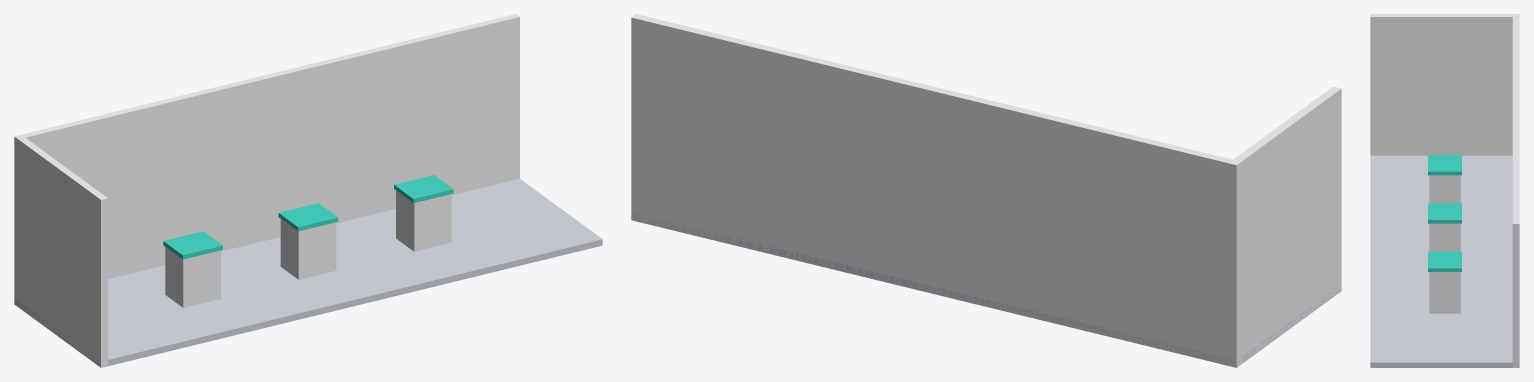
The picture shows the model from 3 angles, left to right: view 1: azimuth 30°, elevation 25°; view 2: azimuth 150°, elevation 25°; view 3: azimuth 270°, elevation 25°; orthographic projection. The views are drawn at different scales.
Parts seen in each view (by area): view 1: Exhibition Booth Concept; view 2: Exhibition Booth Concept; view 3: Exhibition Booth Concept.
Part boxes in pixels (x1,y1,x2,y2): Exhibition Booth Concept: [14, 14, 602, 367]; Exhibition Booth Concept: [631, 14, 1341, 367]; Exhibition Booth Concept: [1370, 14, 1519, 367].
Bounding box in the file's own units: 10 × 3.2 × 3.
